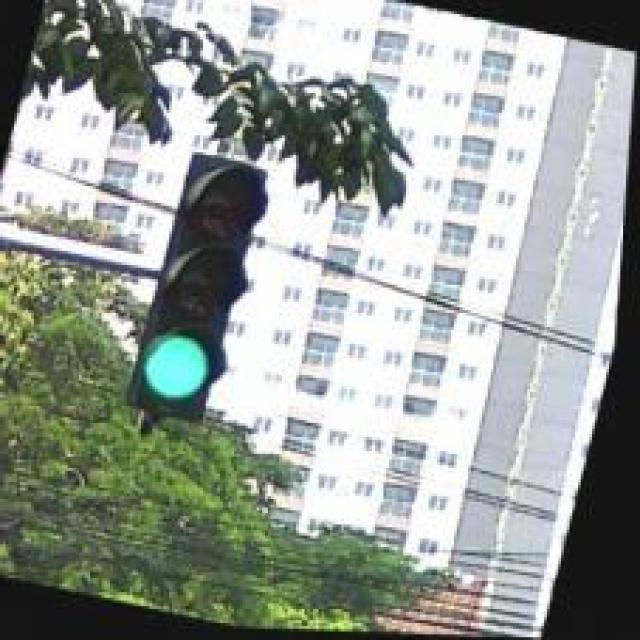green_light: (130, 153, 266, 424)
